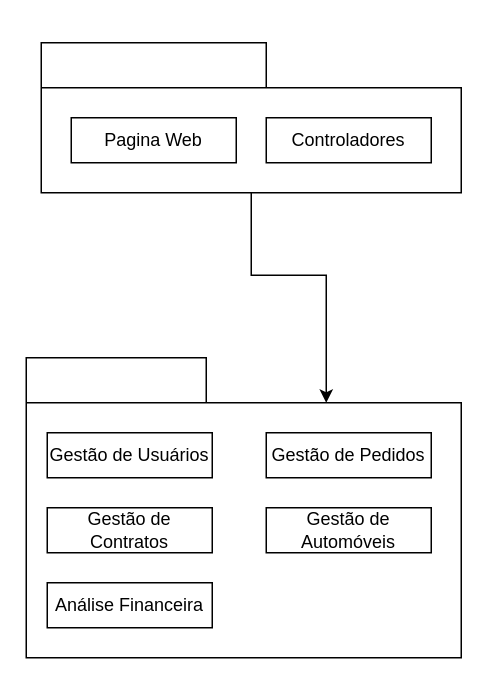
This 488x684 diagram has some shape labels left out. Each missing label, with the box of its shape:
Construção Dinâmica de Páginas Web: (40, 41, 461, 193)
Gestão de Pedidos e Contratos: (25, 356, 461, 658)
